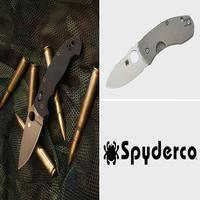knife: (13, 37, 77, 173), (103, 14, 195, 95)
